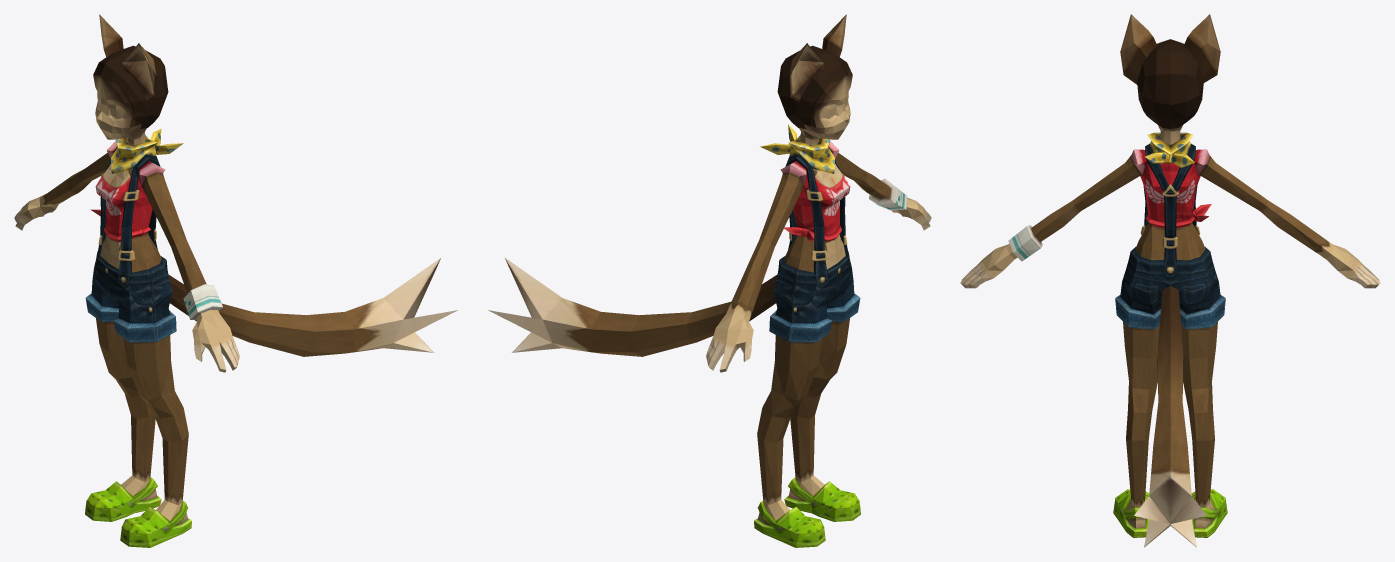
Rendered from Cat_summer.obj.
3 views of the same model, side by side, from view 1: azimuth 30°, elevation 25°; view 2: azimuth 150°, elevation 25°; view 3: azimuth 270°, elevation 25° (orthographic).
Visible parts, largest first — view 1: Cat_summer_tri; view 2: Cat_summer_tri; view 3: Cat_summer_tri.
Boxes of the visible parts, x1,y1,x2,y2 form: Cat_summer_tri: (14, 14, 457, 547); Cat_summer_tri: (488, 14, 931, 547); Cat_summer_tri: (960, 14, 1380, 547).
Bounding box in the file's own units: 1.18 × 1.64 × 1.25.
Materials: 1 (1 with a texture image).
